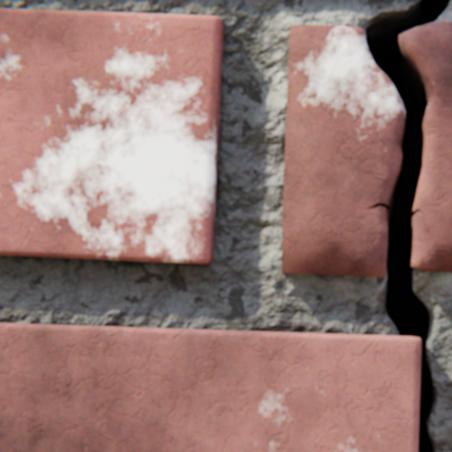brick: (0, 10, 223, 264), (0, 323, 420, 451)
broken_brick: (282, 26, 403, 277), (399, 23, 451, 271)
crack: (364, 0, 450, 451)
